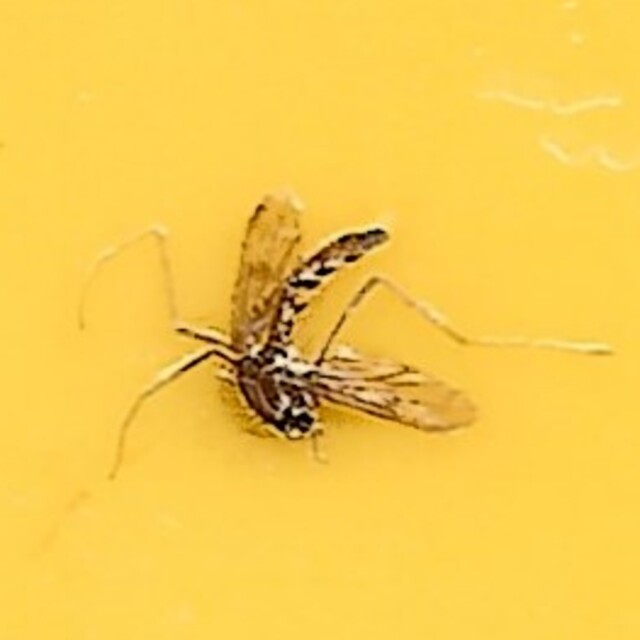Nematocera: (243, 222, 397, 418)
